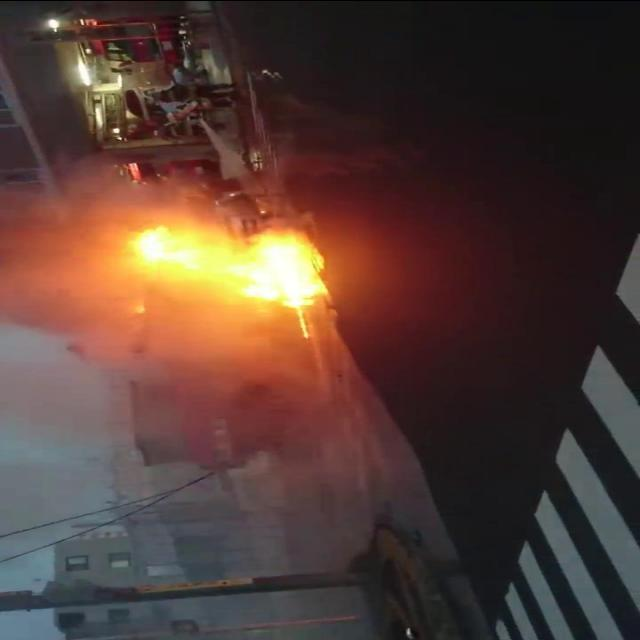Fire: (225, 226, 323, 337), (134, 218, 197, 270), (132, 299, 148, 313)
